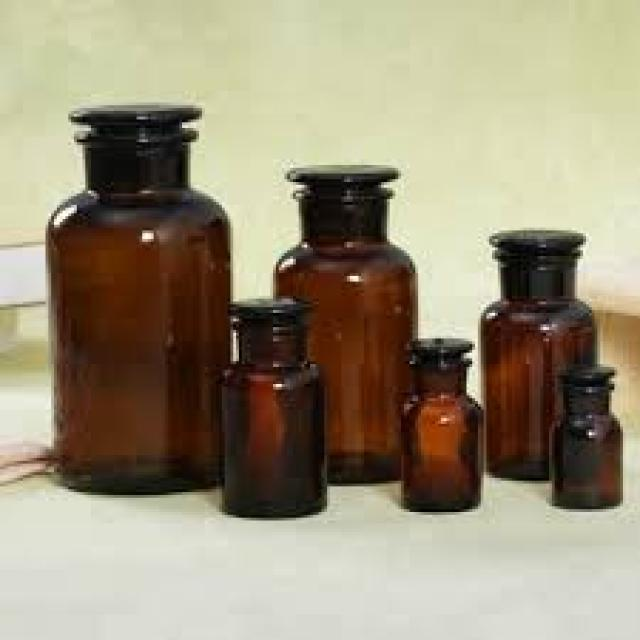glass: (43, 102, 230, 495), (271, 162, 416, 481), (478, 230, 592, 481), (216, 299, 324, 521), (395, 336, 481, 515), (546, 361, 623, 509)
